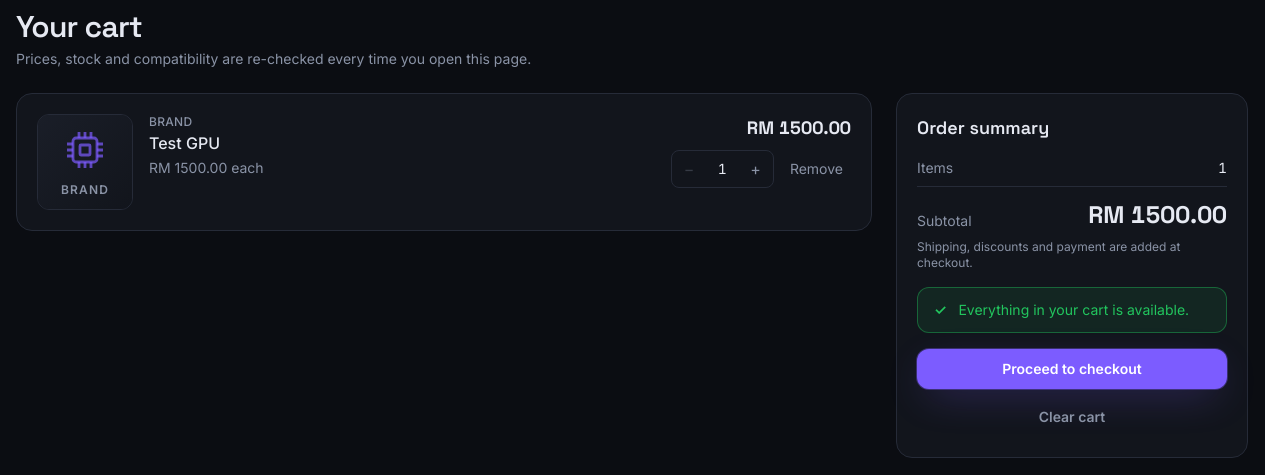
it: Cart page › changes a quantity through the server and shows the server's new totals
The image size is (1265, 475).
Step 1. Click the button "+" → coordinates (756, 169), box [738,151,773,187]
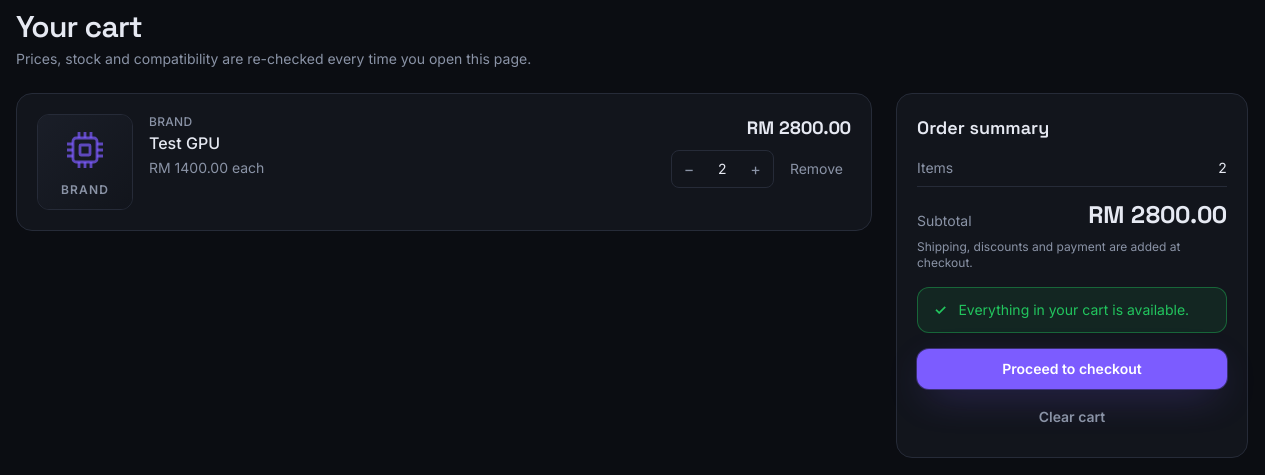
Check: the text with test id "subtotal" reads "RM 2800.00", box [1088,199,1227,230]
